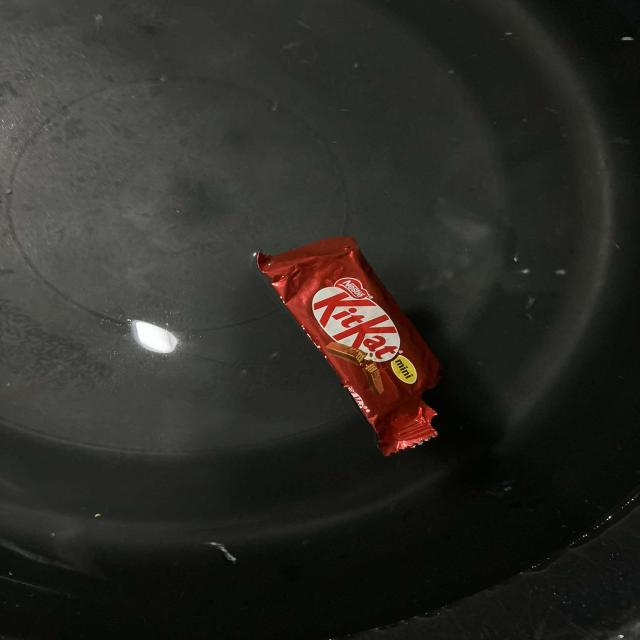Plastic Wrapper: (258, 237, 439, 455)
